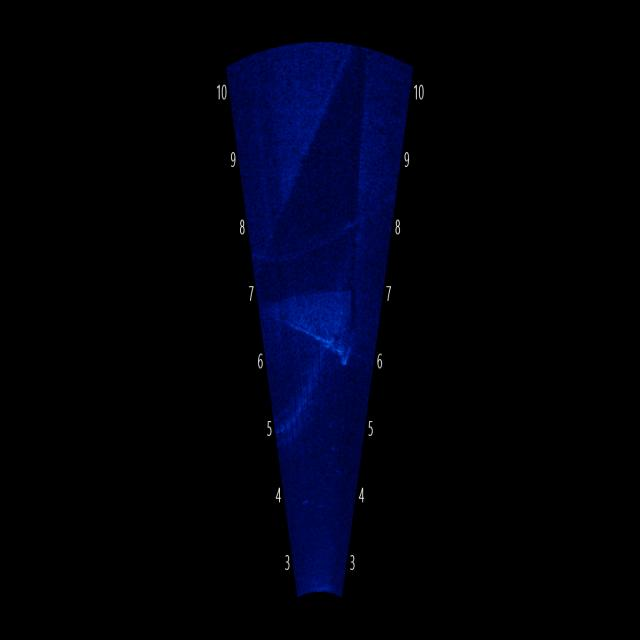triangle: (263, 266, 361, 374)
